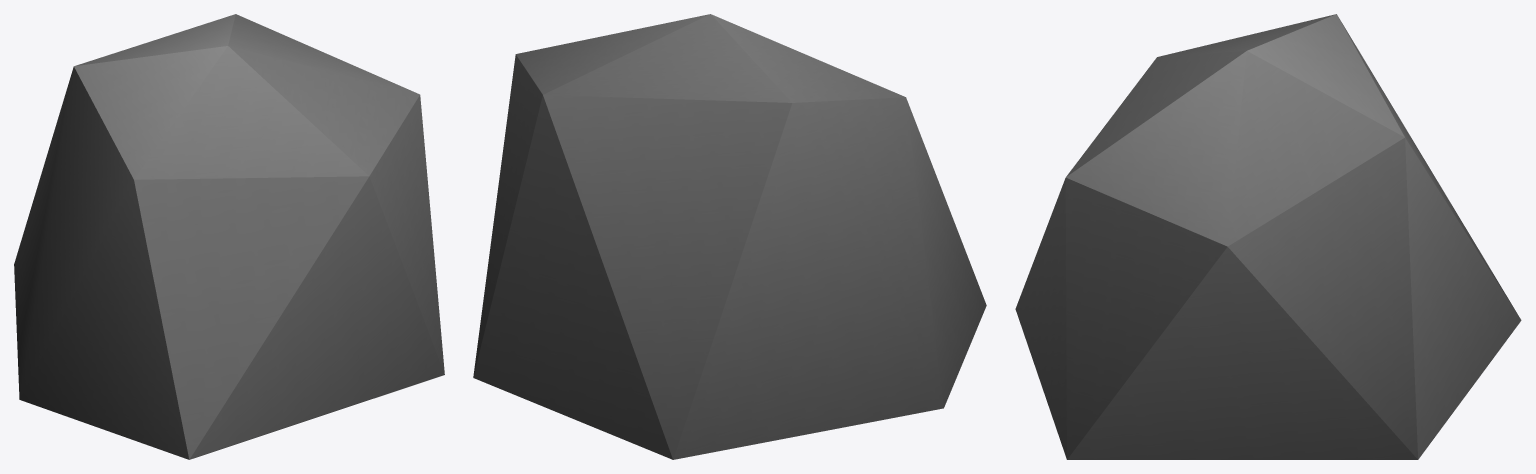
The model's file is Stone_3.fbx.
The picture shows the model from 3 angles, left to right: view 1: azimuth 30°, elevation 25°; view 2: azimuth 150°, elevation 25°; view 3: azimuth 270°, elevation 25°; orthographic projection. The views are drawn at different scales.
Visible parts, largest first — view 1: Icosphere.004; view 2: Icosphere.004; view 3: Icosphere.004.
Part boxes in pixels (<box>): Icosphere.004: <box>14,14,444,459</box>; Icosphere.004: <box>473,14,986,459</box>; Icosphere.004: <box>1015,14,1521,459</box>.
Size of the model in its own units: 225 by 166 by 227.
